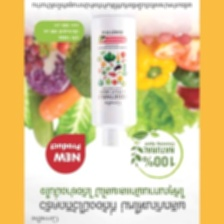insecticide: (88, 12, 140, 148)
